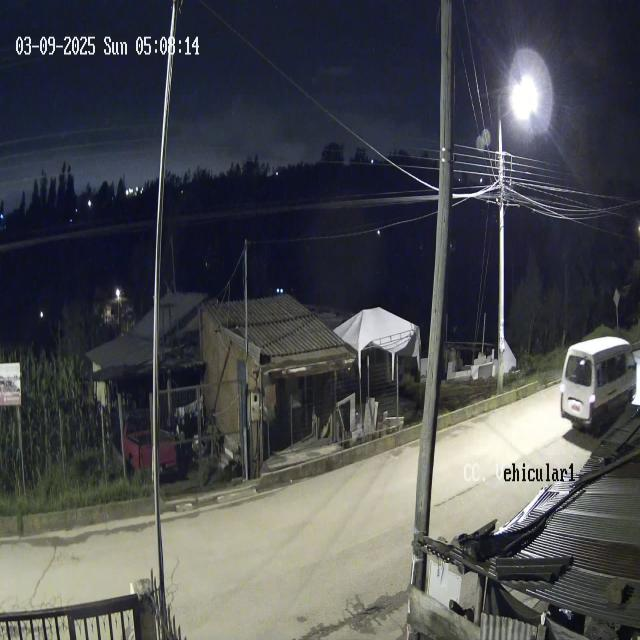BUS: (559, 336, 637, 429)
